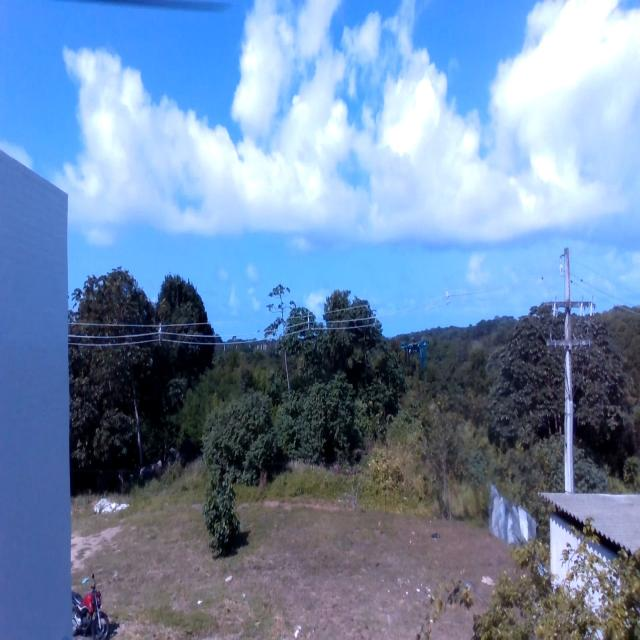-uav-: (398, 334, 432, 379)
